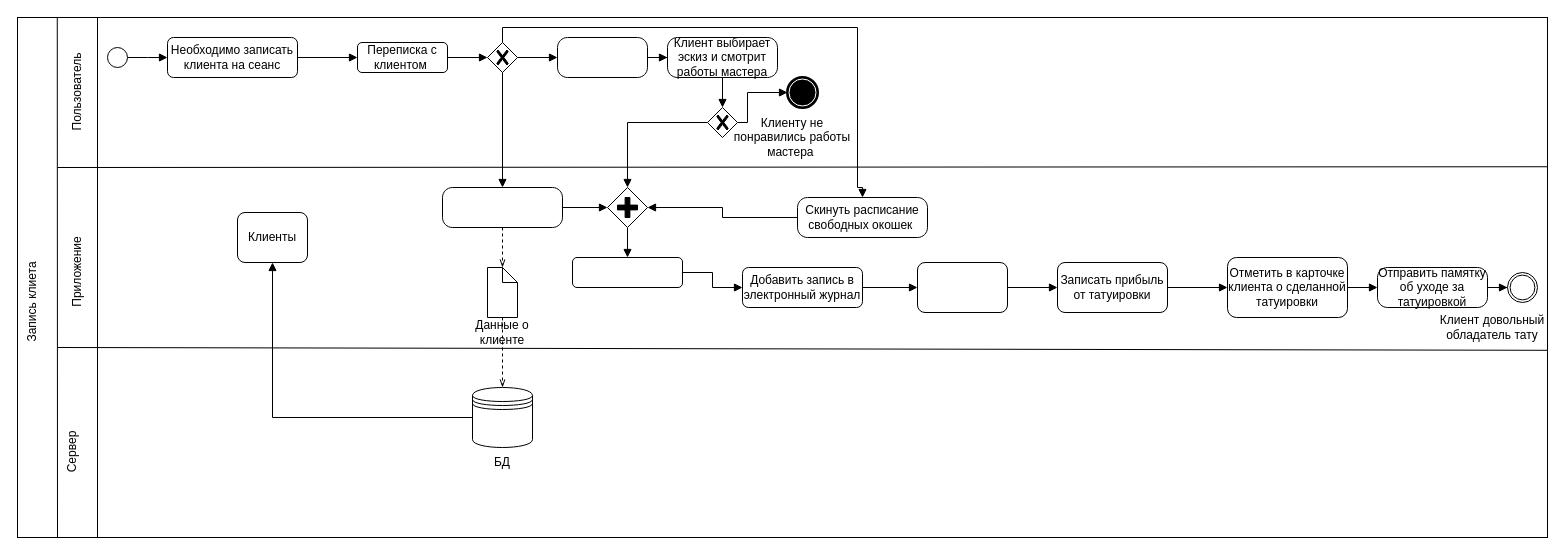
The diagram is 1566 pixels wide and 556 high, and some of its shapes have lost their labels. Each missing label, with the centre of its shape:
Записать клиента на сеанс: (627,272)
Отметить выполненным сеанс: (962,287)
Скинуть сайт визитку: (602,57)
Создать карточку клиента: (502,207)
